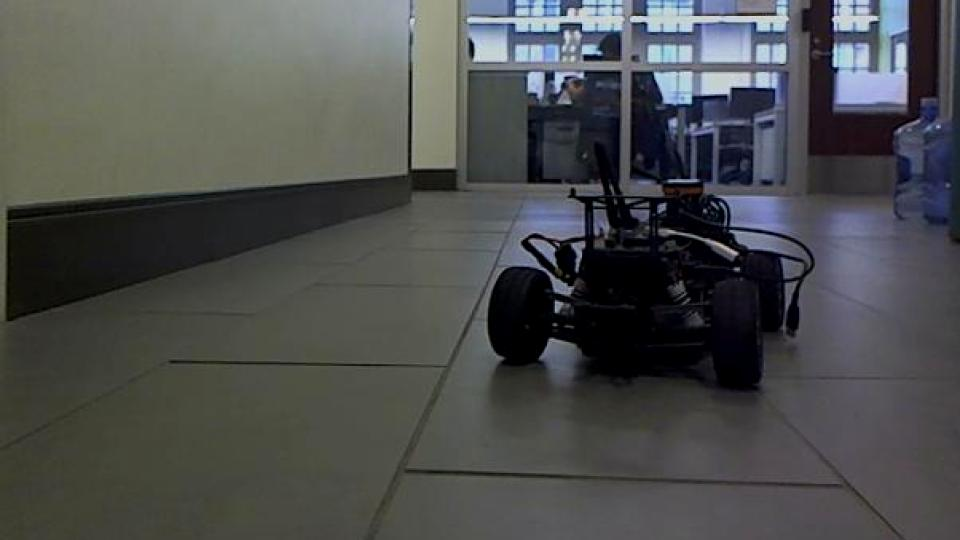car: (483, 139, 817, 390)
